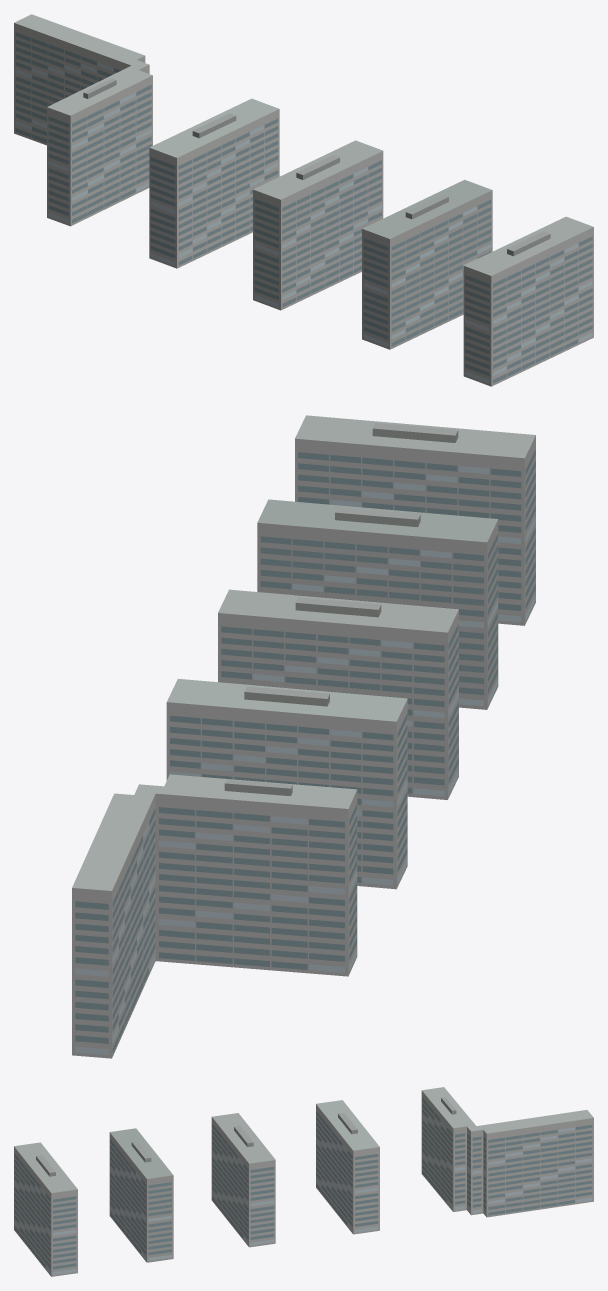
Rendered from apt-a13923104.glb.
The picture shows the model from 3 angles, top to bottom: view 1: azimuth 30°, elevation 25°; view 2: azimuth 150°, elevation 25°; view 3: azimuth 270°, elevation 25°; orthographic projection. The views are drawn at different scales.
Parts seen in each view (by area): view 1: apt-a13923104; view 2: apt-a13923104; view 3: apt-a13923104.
Part boxes in pixels (left/top/right/bottom): apt-a13923104: left=14, top=14, right=593, bottom=386; apt-a13923104: left=72, top=415, right=535, bottom=1058; apt-a13923104: left=14, top=1087, right=593, bottom=1276.
Bounding box in the file's own units: 124 × 47.81 × 287.
